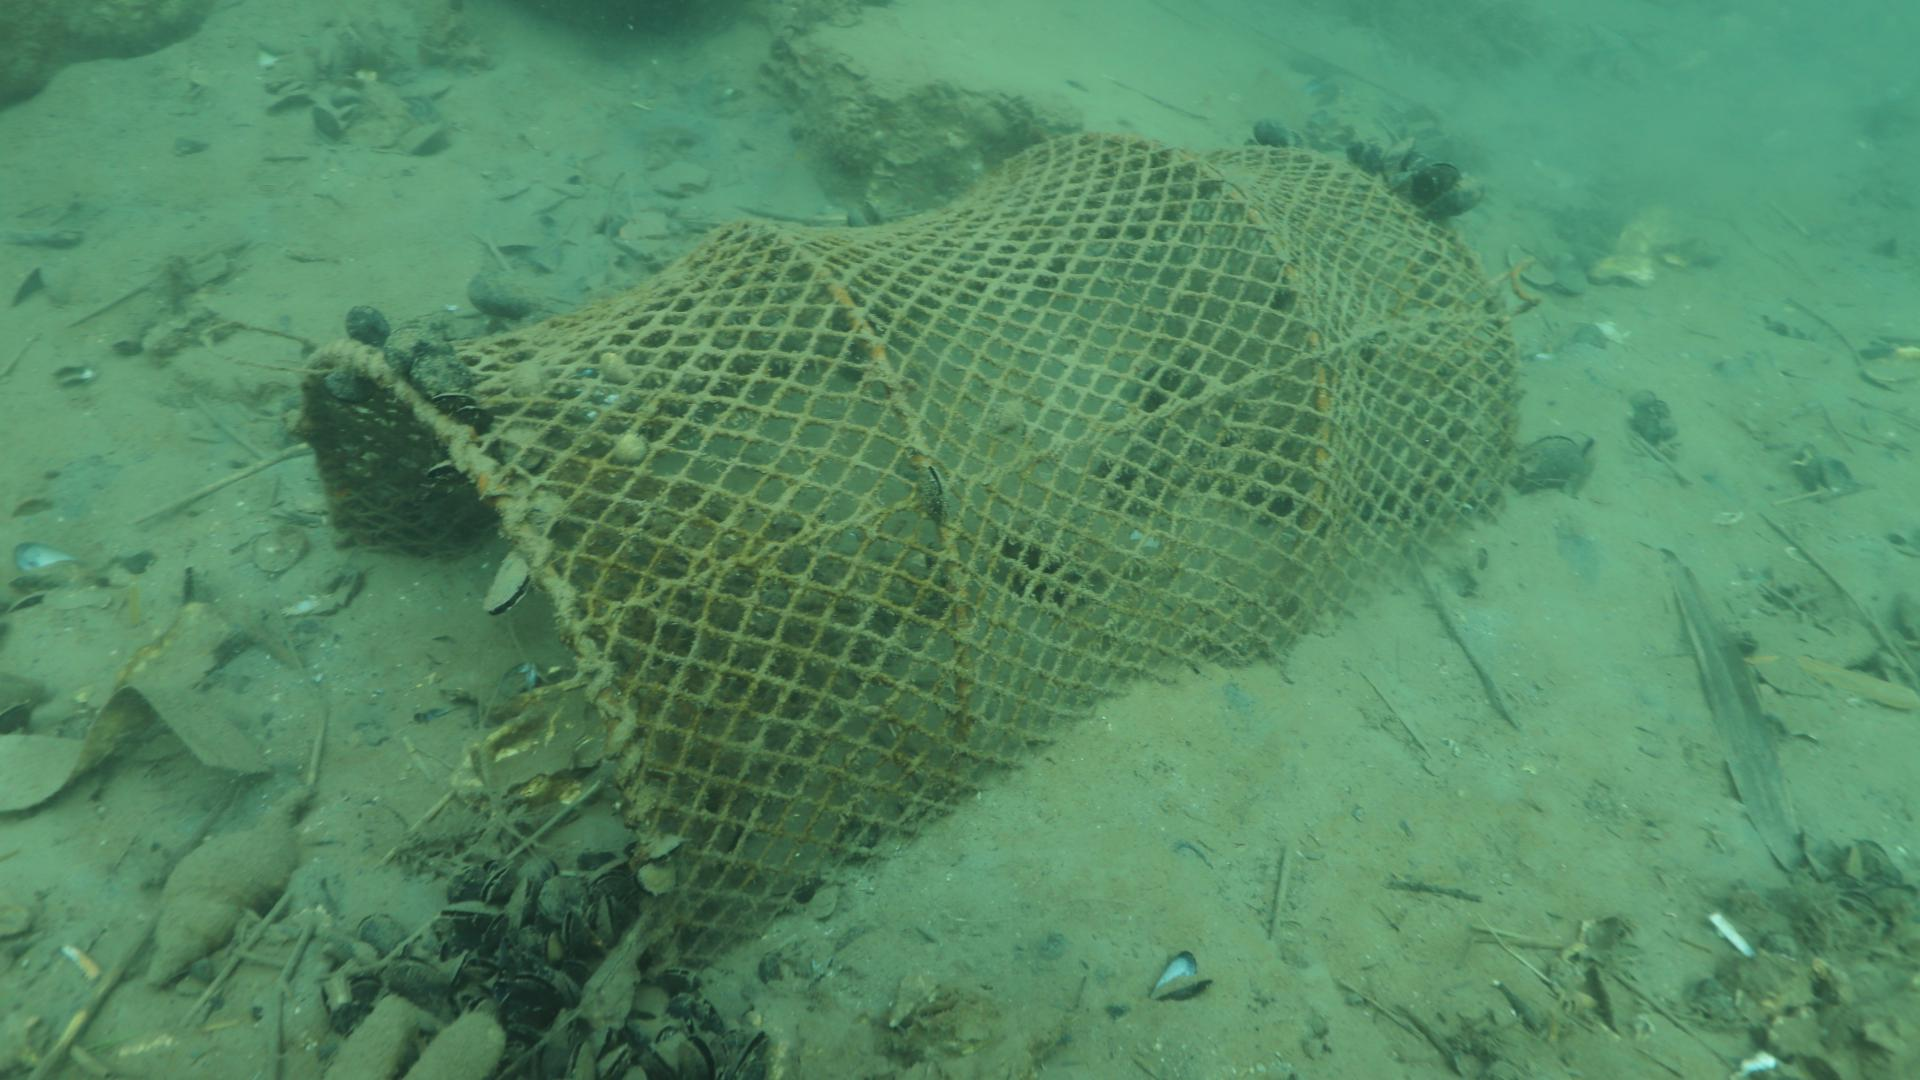spring fish trap: (298, 128, 1528, 977)
